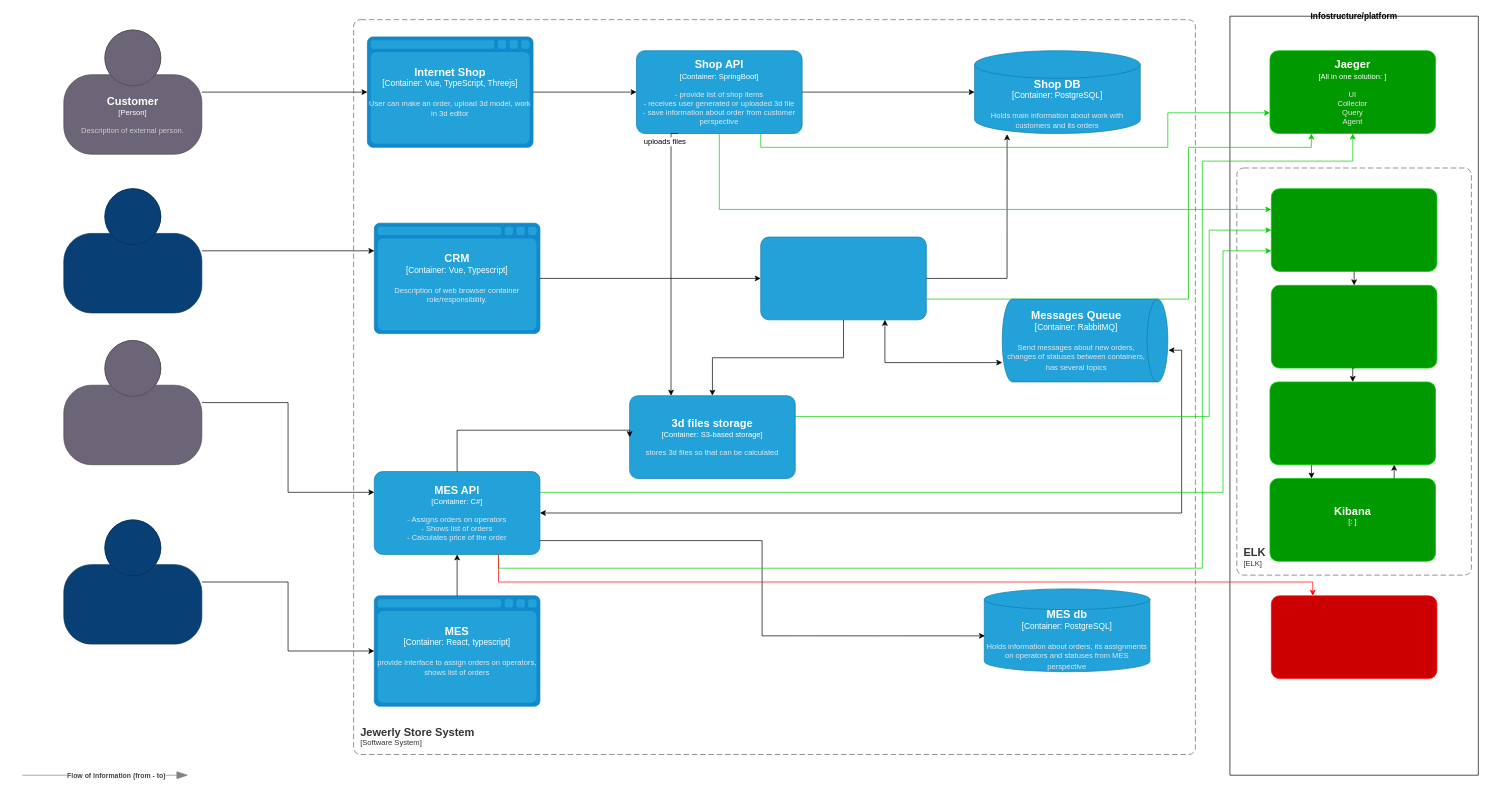
The diagram is 1490 pixels wide and 798 high, and some of its shapes have lost their labels. Here are the shapes that lost their labels. From the top down, the centre of each, then its label:
At pixel 132 250: "Seller [Person] Operates with order, confirms manufacturing for the user".
At pixel 1354 230: "Beats [: ]".
At pixel 843 278: "CRM API [Container: SpringBoot] Description of container role/responsibility.".
At pixel 1354 326: "Logstash [: ]".
At pixel 132 402: "API user [Person] Description of external person.".
At pixel 1352 423: "Elastic [: ]".
At pixel 132 581: "Operator [Person] Takes order in work, manufactures jewerly".
At pixel 1354 637: "Redis [: ]".
